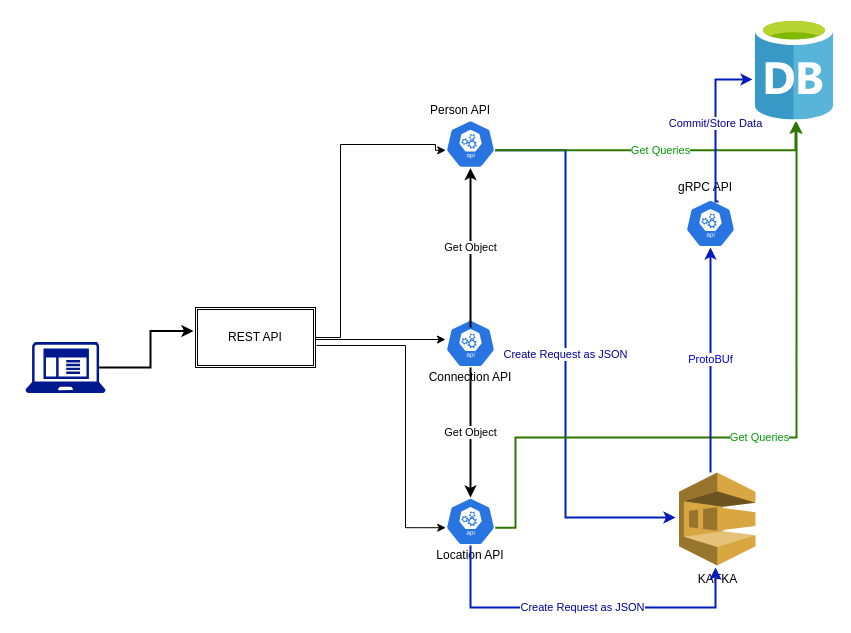
This 851x633 diagram has some shape labels left out. The shapes that lost their labels are listed below. From the top down, each one's centre as x and y in pixels, then its label:
At pixel 794 68: "Postgres".
At pixel 65 367: "FRONT-END APP".
